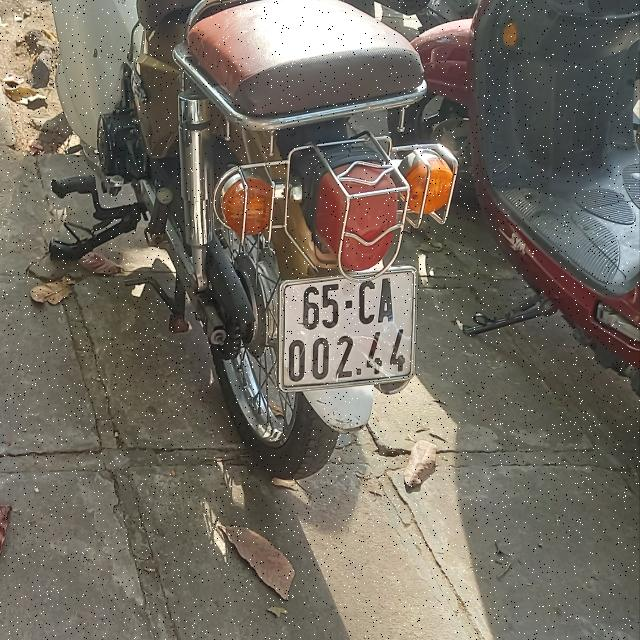0: (312, 338, 330, 380), (289, 338, 305, 383)
2: (337, 336, 352, 378)
4: (366, 332, 382, 376), (391, 328, 405, 372)
5: (323, 284, 338, 329)
6: (303, 287, 319, 331)
A: (378, 278, 394, 322)
C: (359, 281, 374, 326)
